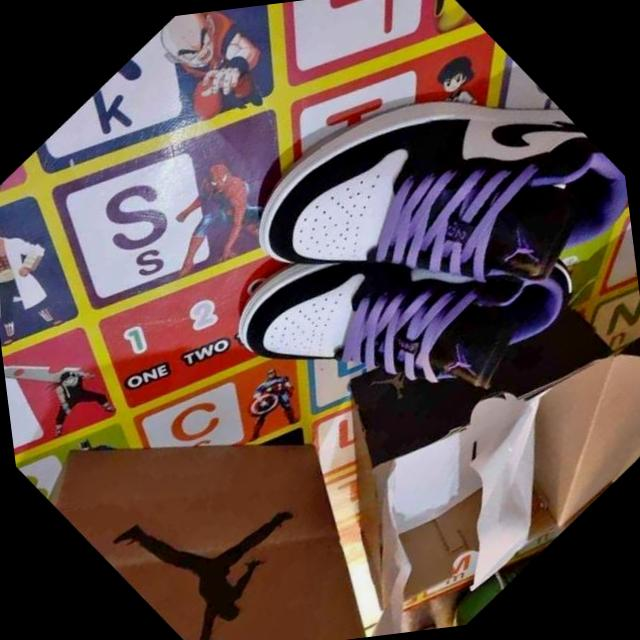nike_fake_jordan: (212, 0, 640, 426), (200, 108, 610, 511)
